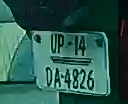1: (73, 34, 79, 55)
2: (79, 67, 87, 91)
4: (78, 35, 87, 57), (63, 69, 72, 89)
6: (87, 69, 96, 93)
8: (72, 67, 79, 91)
A: (54, 68, 62, 88)
D: (44, 66, 53, 87)
P: (56, 32, 65, 54)
U: (49, 32, 57, 55)
